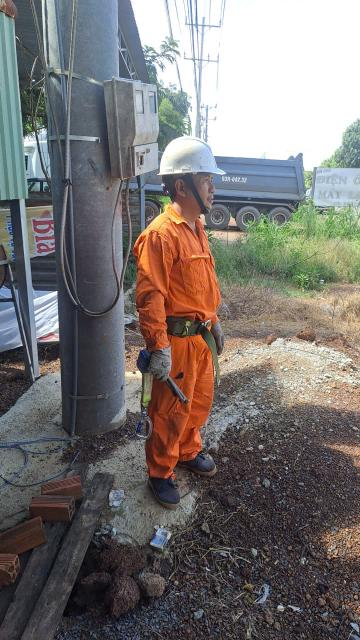gloves: (142, 339, 181, 395), (203, 315, 237, 353)
harness: (143, 307, 226, 345)
helmet: (149, 129, 229, 181)
shoes: (172, 436, 224, 481), (138, 466, 187, 511)
